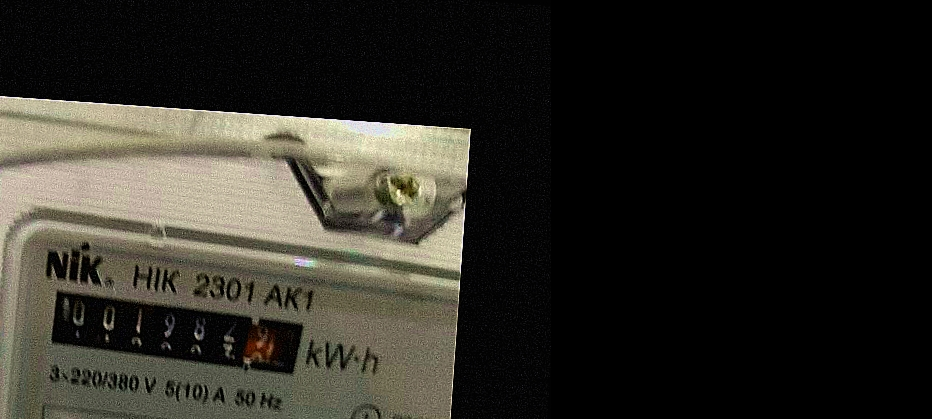0: (99, 302, 118, 332), (69, 297, 87, 327)
1: (131, 304, 145, 334)
2: (221, 313, 240, 344)
8: (191, 312, 208, 341)
9: (251, 322, 273, 351), (160, 309, 177, 339)
screen: (32, 275, 319, 390)
